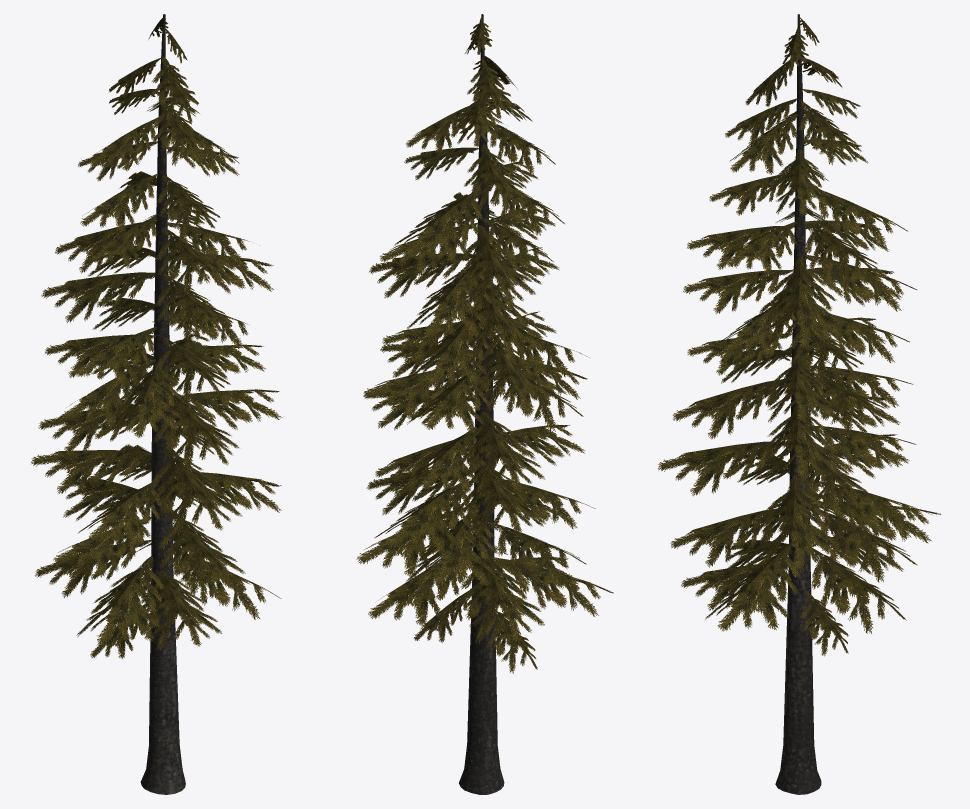
The model's file is pine_tree_n_3_2.glb.
3 renders of one model, left to right at view 1: azimuth 30°, elevation 25°; view 2: azimuth 150°, elevation 25°; view 3: azimuth 270°, elevation 25°, orthographic.
Parts seen in each view (by area): view 1: pine_tree_n_3_2_branches, pine_tree_n_3_2; view 2: pine_tree_n_3_2_branches, pine_tree_n_3_2; view 3: pine_tree_n_3_2_branches, pine_tree_n_3_2.
Part boxes in pixels (<box>): pine_tree_n_3_2_branches: <box>31,18,282,658</box>; pine_tree_n_3_2: <box>140,14,185,794</box>; pine_tree_n_3_2_branches: <box>356,18,613,673</box>; pine_tree_n_3_2: <box>459,14,504,794</box>; pine_tree_n_3_2_branches: <box>658,17,941,656</box>; pine_tree_n_3_2: <box>775,14,821,794</box>.
Bounding box in the file's own units: 2.69 × 8.19 × 2.97.
2 materials, 2 textured.
